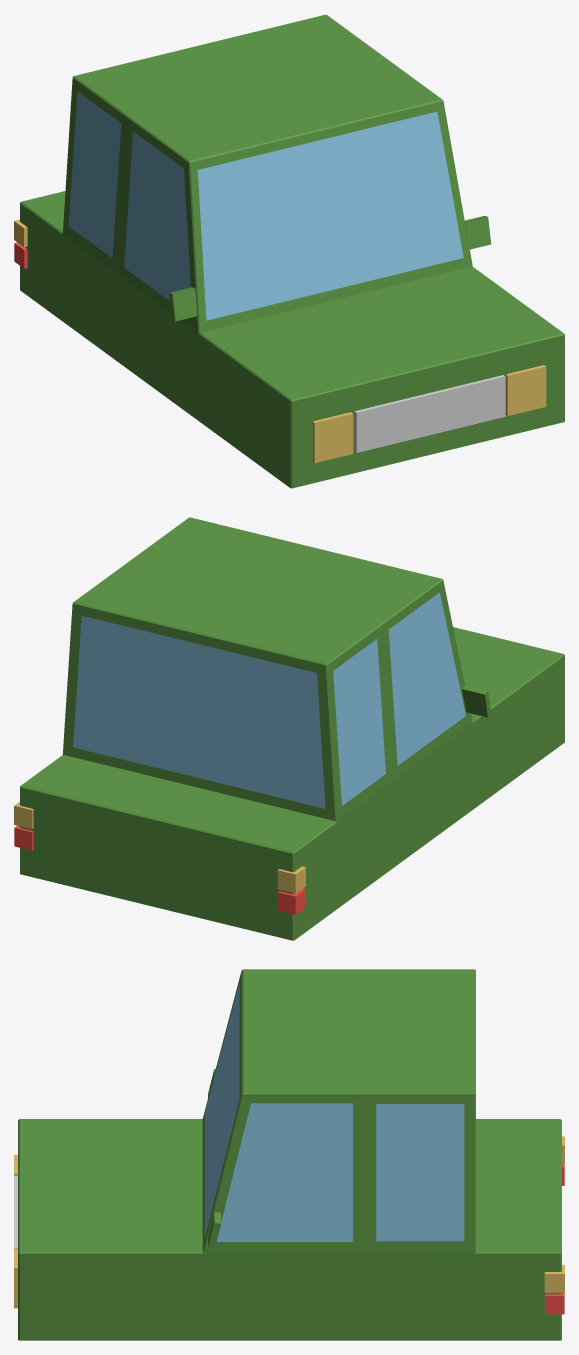
Rendered from car.fbx.
3 renders of one model, top to bottom at view 1: azimuth 30°, elevation 25°; view 2: azimuth 150°, elevation 25°; view 3: azimuth 270°, elevation 25°, orthographic.
Parts seen in each view (by area): view 1: Car; view 2: Car; view 3: Car.
Boxes of the visible parts, x1,y1,x2,y2 form: Car: (14,14,564,488); Car: (14,517,564,940); Car: (14,969,564,1340).
Size of the model in its own units: 168 by 123 by 253.
